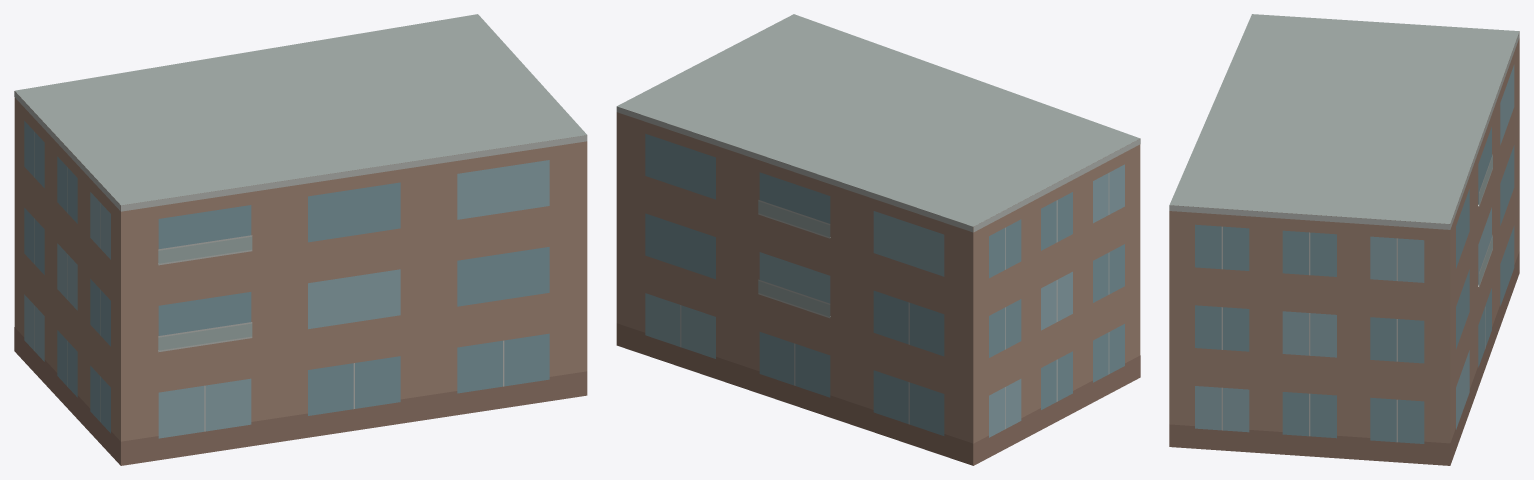
The model's file is survey-upis-32669469.glb.
The picture shows the model from 3 angles, left to right: view 1: azimuth 30°, elevation 25°; view 2: azimuth 150°, elevation 25°; view 3: azimuth 270°, elevation 25°; orthographic projection. The views are drawn at different scales.
Visible parts, largest first — view 1: survey-upis-32669469.tmp; view 2: survey-upis-32669469.tmp; view 3: survey-upis-32669469.tmp.
Part boxes in pixels (<box>): survey-upis-32669469.tmp: <box>14,14,587,465</box>; survey-upis-32669469.tmp: <box>616,14,1140,465</box>; survey-upis-32669469.tmp: <box>1169,14,1519,465</box>.
Bounding box in the file's own units: 18.83 × 10.1 × 13.27.
